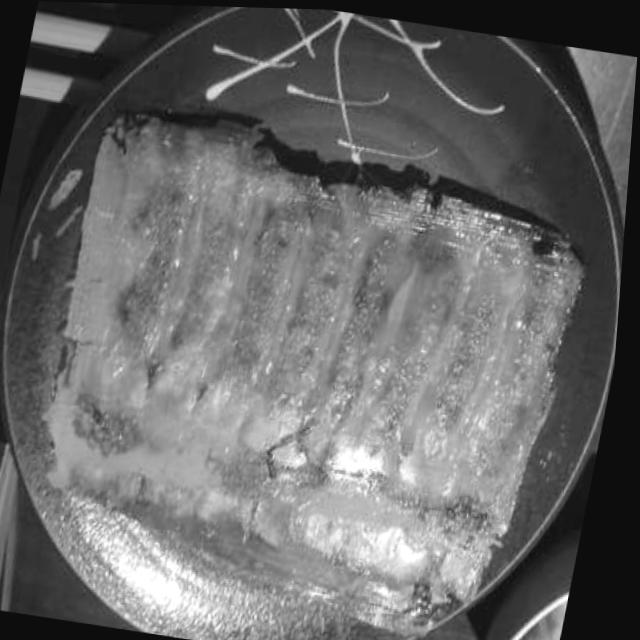带馅早点: (0, 80, 632, 640)
